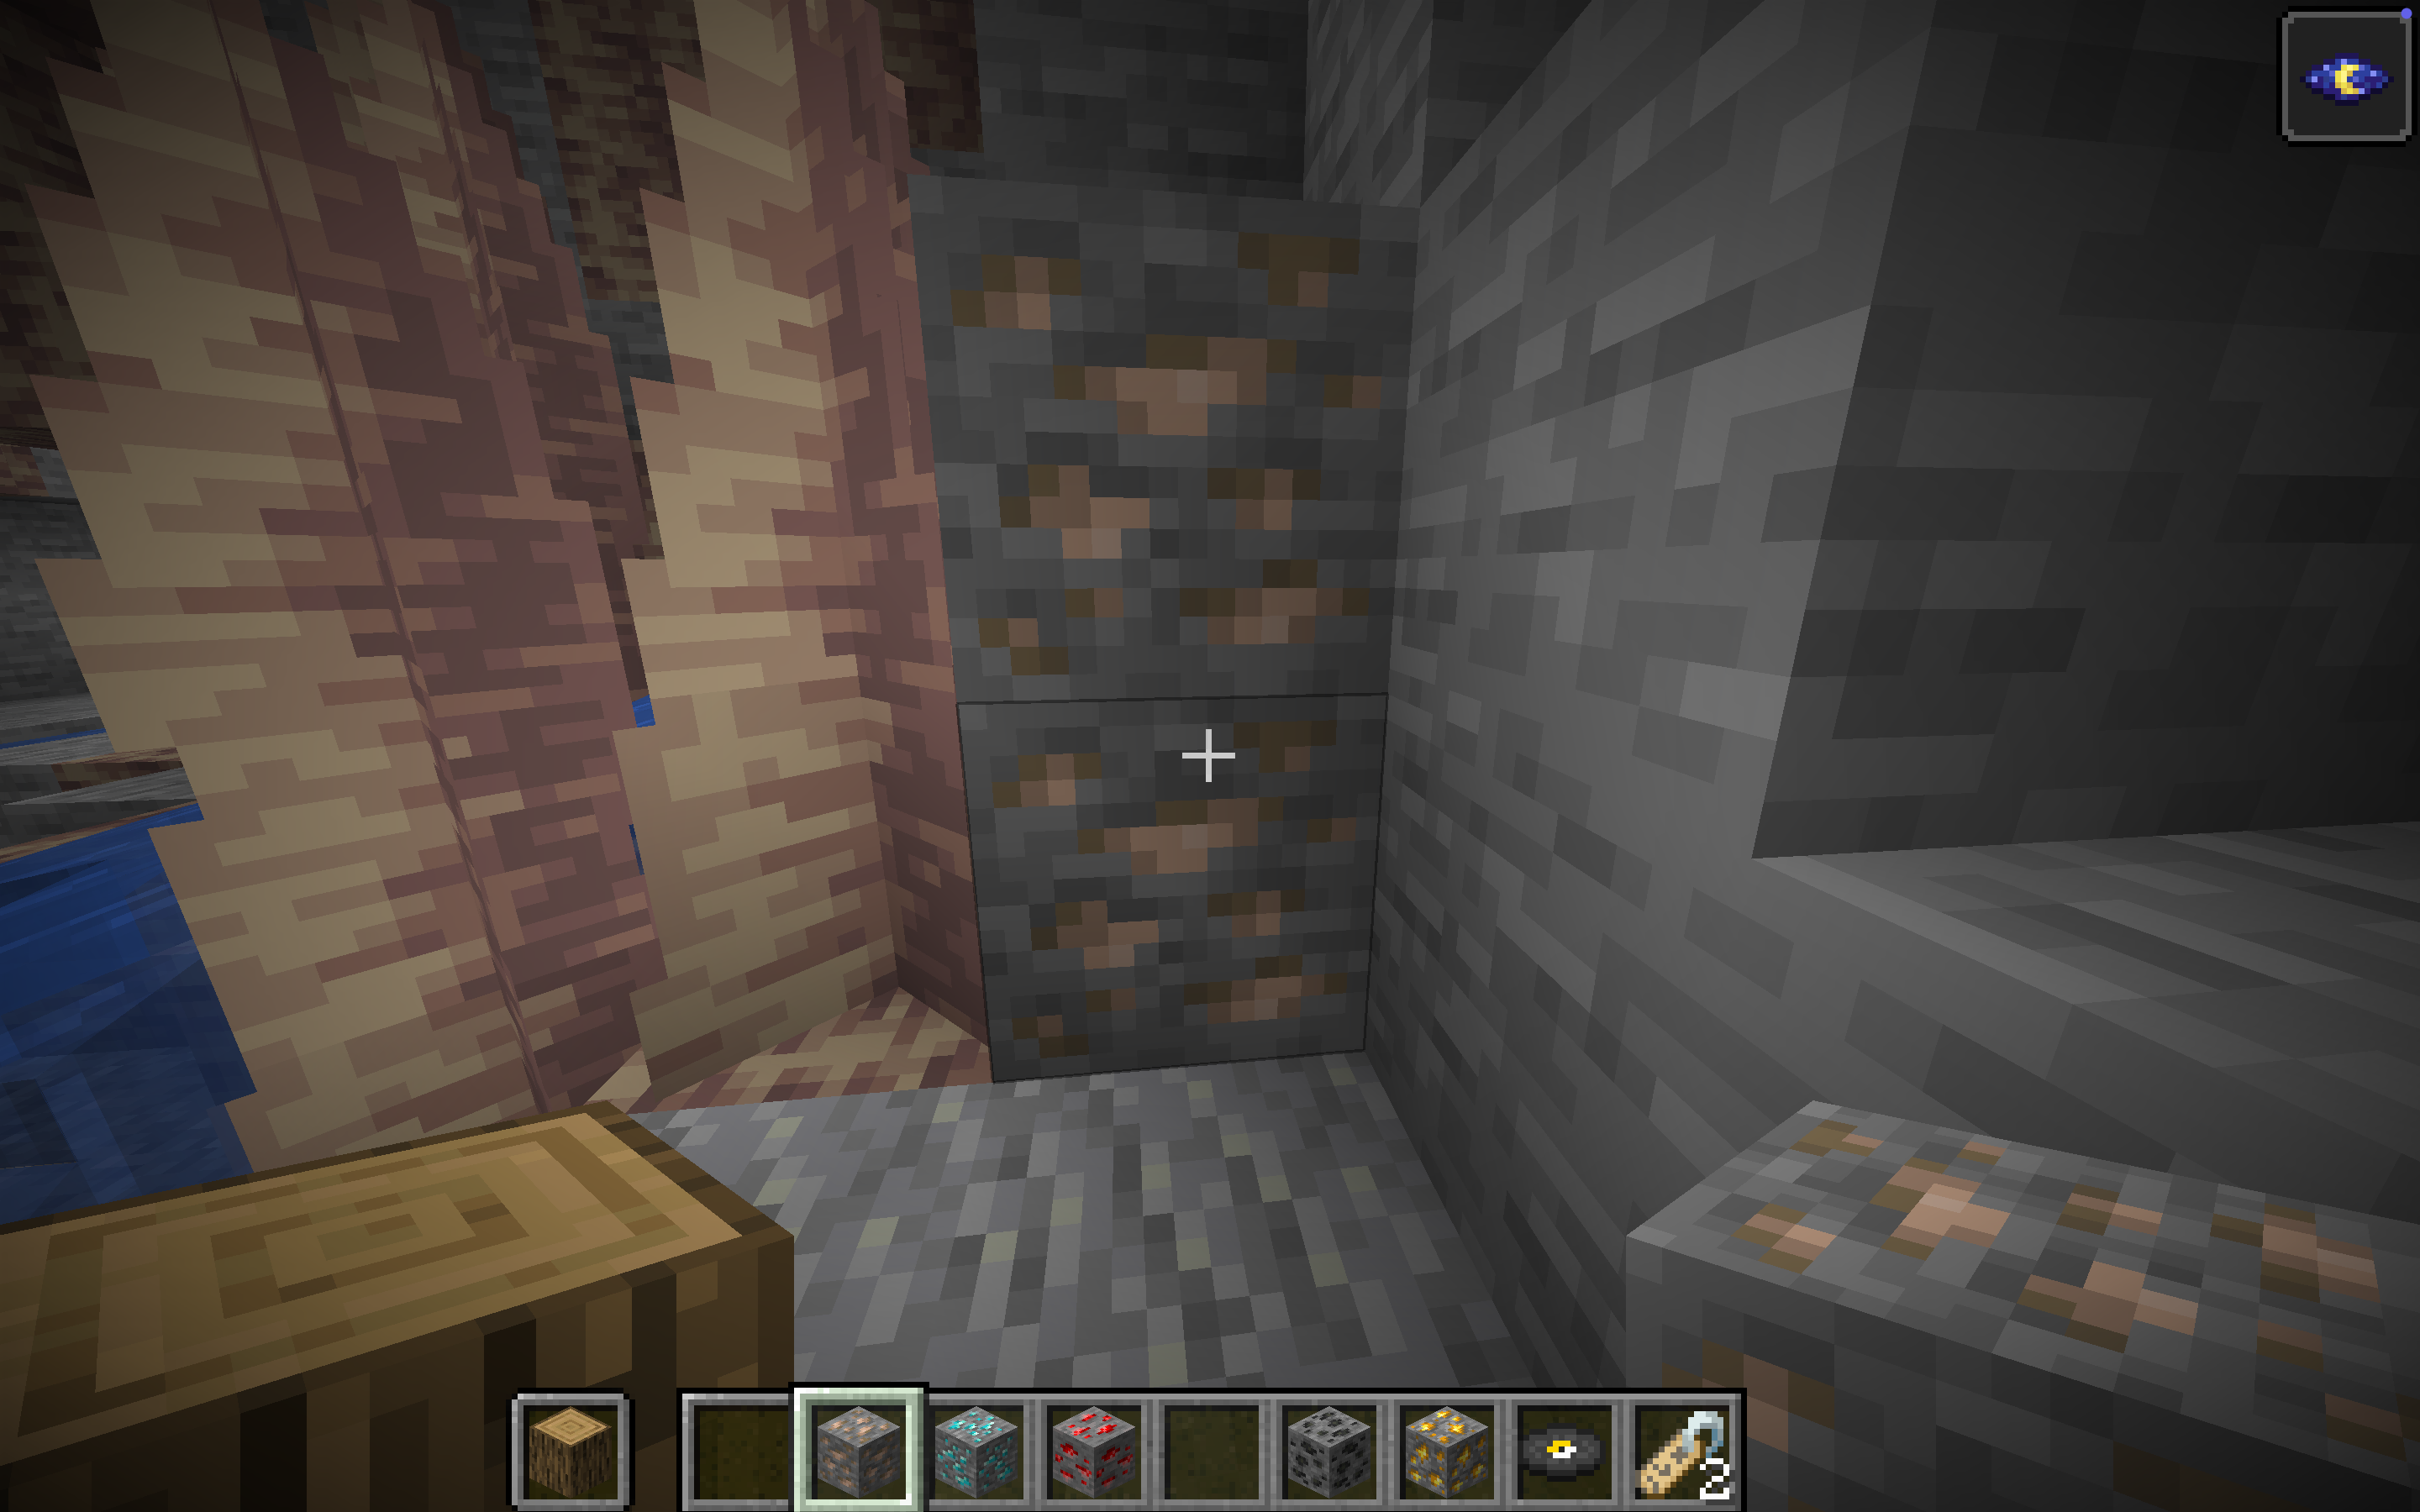iron: (118, 68, 1732, 1096)
